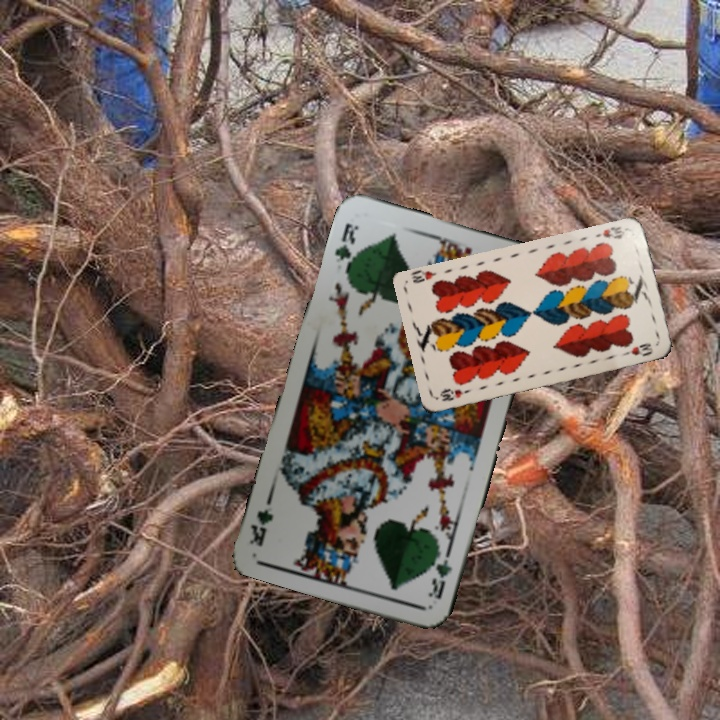GK: (330, 218, 361, 277), (424, 545, 455, 602)
H10: (436, 385, 474, 404), (592, 222, 627, 242)
